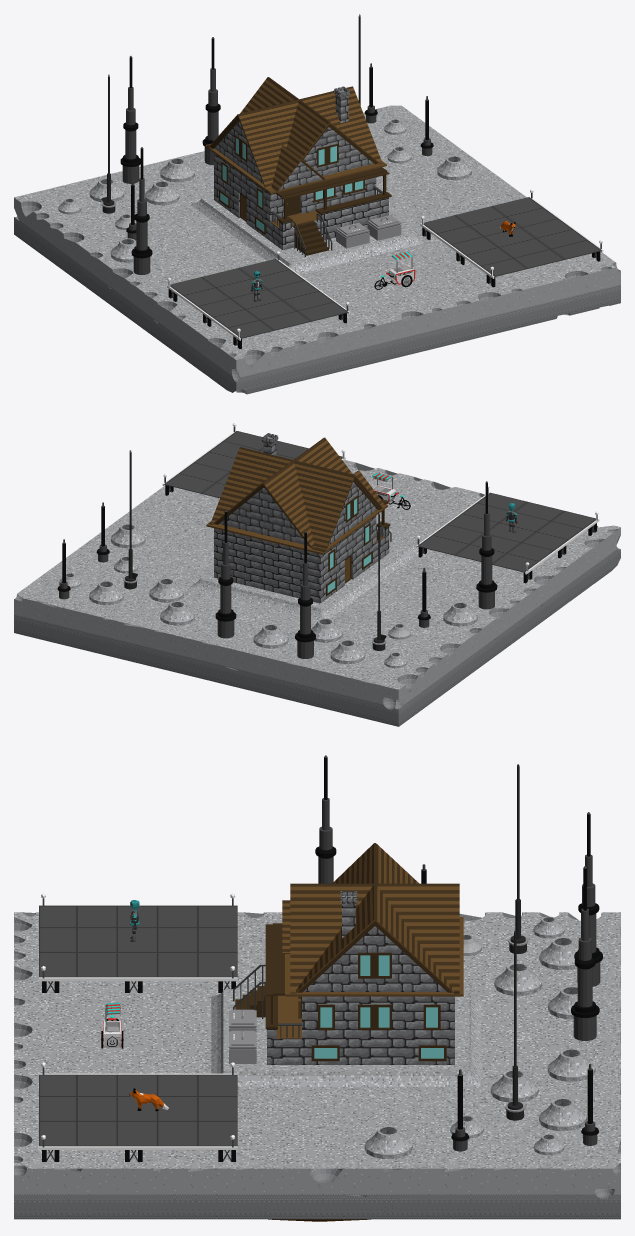
3 views of the same model, one above another, from view 1: azimuth 30°, elevation 25°; view 2: azimuth 150°, elevation 25°; view 3: azimuth 270°, elevation 25° (orthographic). The views are drawn at different scales.
Visible parts, largest first — view 1: Cube.027, Cube.586, Cube.026, Cube.025, Cube.028, Cylinder.021, Cylinder.020, Cylinder.017, VEHICLES_SNOWBAL_BIKE, Cube.029, Cube.030, Cylinder.027 (+3 smaller); view 2: Cube.027, Cube.586, Cube.025, Cube.028, Cube.026, Cylinder.017, Cylinder.021, Cylinder.020, Cylinder.027, Cylinder.029, Cylinder.030, Cylinder.025 (+7 smaller); view 3: Cube.027, Cube.586, Cube.025, Cube.026, Cube.028, Cylinder.017, Cylinder.020, Cylinder.021, Cylinder.033, Cylinder.031, Cylinder.029, Cylinder.026 (+9 smaller).
Boxes of the visible parts, x1=… form: Cube.027: x1=14, y1=105, x2=620, y2=394; Cube.586: x1=205, y1=77, x2=391, y2=256; Cube.026: x1=420, y1=189, x2=603, y2=287; Cube.025: x1=167, y1=251, x2=349, y2=348; Cube.028: x1=191, y1=195, x2=424, y2=273; Cylinder.021: x1=131, y1=147, x2=152, y2=274; Cylinder.020: x1=120, y1=56, x2=140, y2=183; Cylinder.017: x1=202, y1=37, x2=220, y2=165; VEHICLES_SNOWBAL_BIKE: x1=374, y1=251, x2=415, y2=289; Cube.029: x1=336, y1=222, x2=369, y2=248; Cube.030: x1=367, y1=215, x2=401, y2=240; Cylinder.027: x1=160, y1=158, x2=194, y2=182; Cube.027: x1=14, y1=460, x2=620, y2=726; Cube.586: x1=206, y1=433, x2=391, y2=603; Cube.025: x1=416, y1=485, x2=599, y2=583; Cube.028: x1=189, y1=537, x2=418, y2=620; Cube.026: x1=162, y1=423, x2=345, y2=498; Cylinder.017: x1=215, y1=510, x2=236, y2=638; Cylinder.021: x1=476, y1=481, x2=497, y2=609; Cylinder.020: x1=295, y1=531, x2=315, y2=658; Cylinder.027: x1=253, y1=624, x2=288, y2=648; Cylinder.029: x1=160, y1=601, x2=194, y2=625; Cylinder.030: x1=149, y1=578, x2=183, y2=602; Cylinder.025: x1=443, y1=602, x2=477, y2=626; Cube.027: x1=14, y1=912, x2=620, y2=1219; Cube.586: x1=233, y1=843, x2=463, y2=1064; Cube.025: x1=39, y1=893, x2=237, y2=992; Cube.026: x1=39, y1=1062, x2=237, y2=1161; Cube.028: x1=211, y1=989, x2=481, y2=1086; Cylinder.017: x1=571, y1=866, x2=599, y2=1040; Cylinder.020: x1=574, y1=812, x2=602, y2=986; Cylinder.021: x1=315, y1=755, x2=336, y2=883; Cylinder.033: x1=364, y1=1126, x2=412, y2=1158; Cylinder.031: x1=539, y1=1098, x2=586, y2=1130; Cylinder.029: x1=547, y1=1048, x2=595, y2=1081; Cylinder.026: x1=494, y1=962, x2=542, y2=995.
Size of the model in its own units: 4000 by 1865 by 4000.
35 materials, 5 textured.
